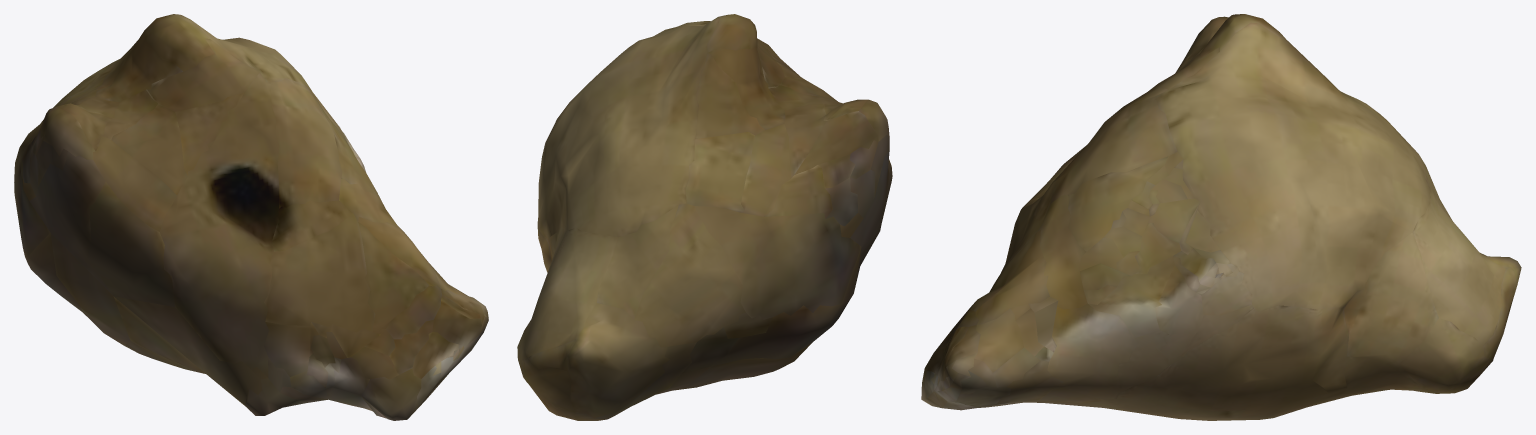
File: hall.glb
3 views of the same model, side by side, from view 1: azimuth 30°, elevation 25°; view 2: azimuth 150°, elevation 25°; view 3: azimuth 270°, elevation 25° (orthographic). The views are drawn at different scales.
Size of the model in its own units: 0.3568 by 0.364 by 0.5431.
1 material, 1 textured.
